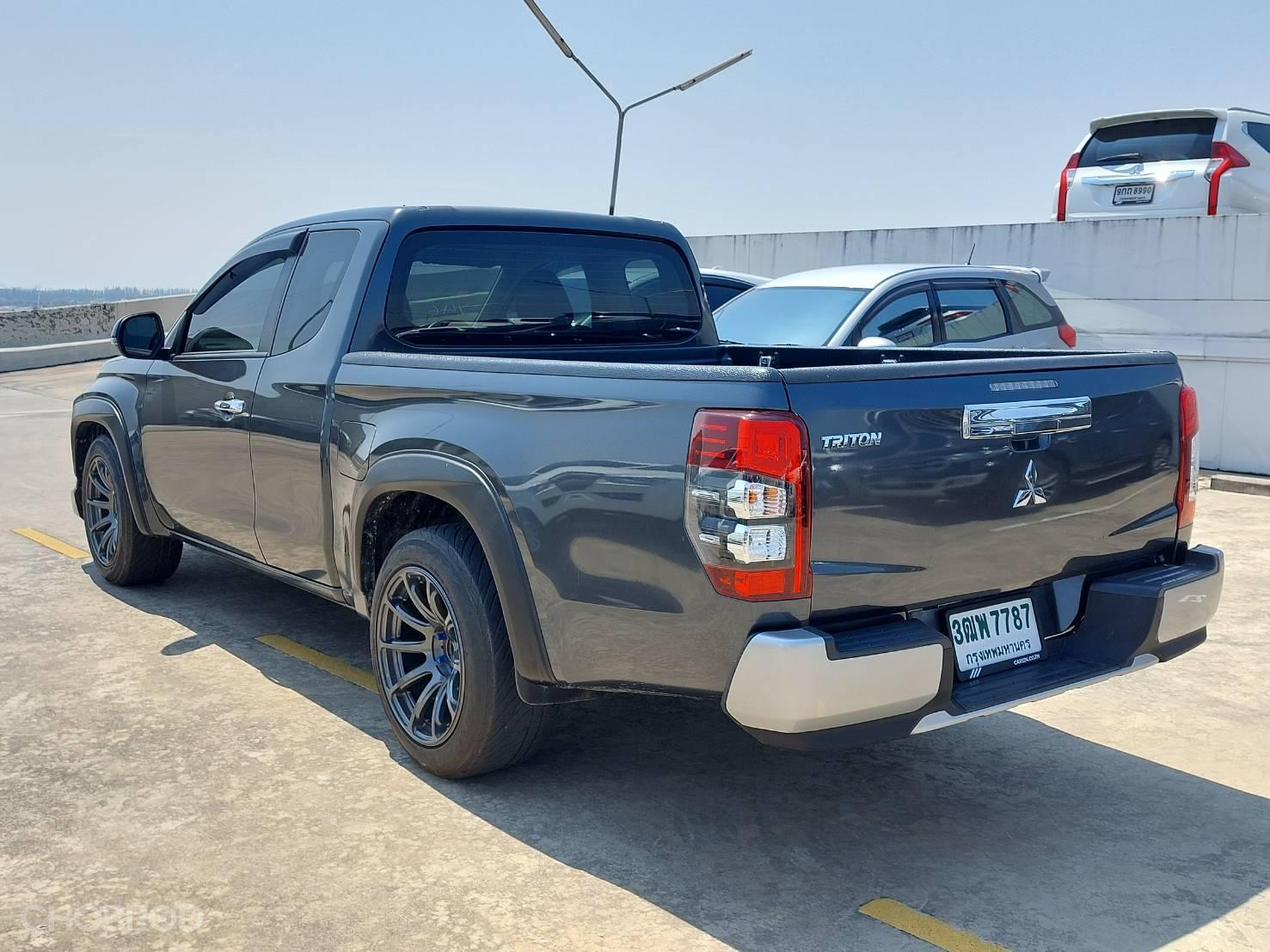license-plate: (942, 591, 1047, 679), (1113, 179, 1156, 206)
